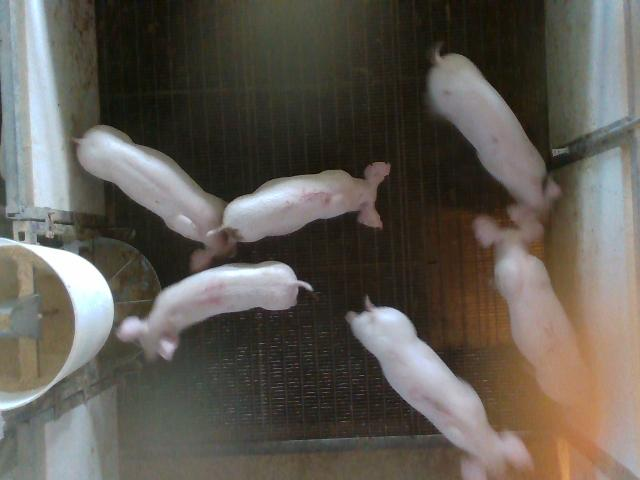pig-3: (346, 299, 532, 478)
pig-4: (116, 261, 312, 359)
pig-5: (221, 164, 390, 242)
